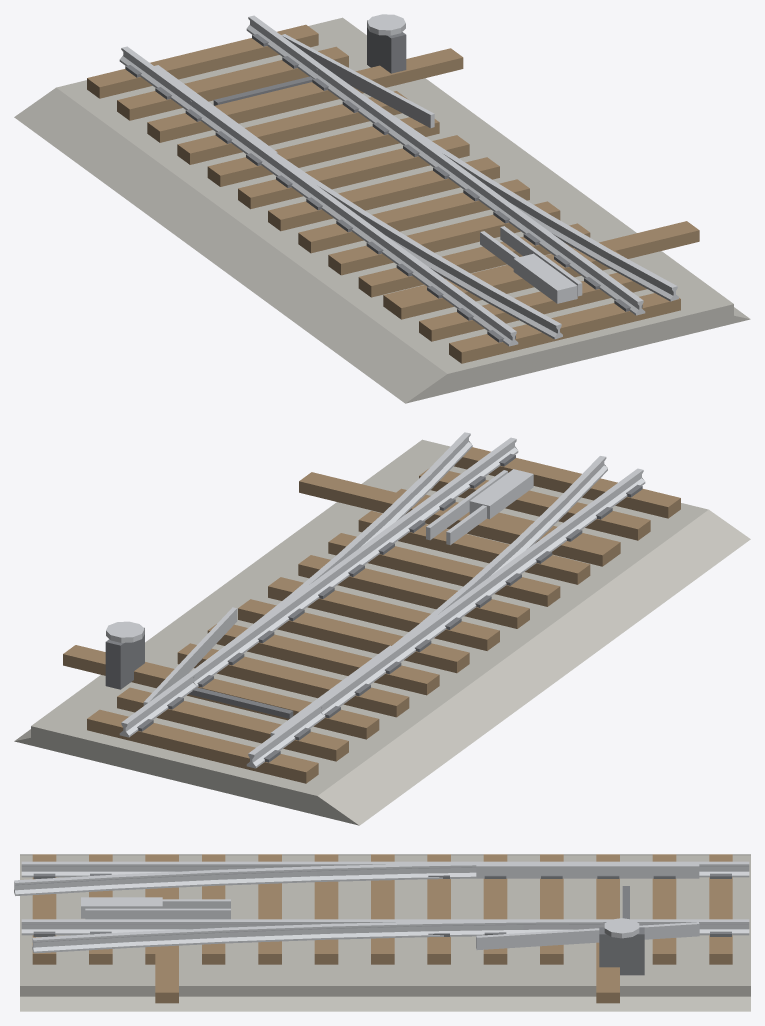
Rendered from steam-era-railway-and-rolling-stock-turnout-right-e67a582f.glb.
The picture shows the model from 3 angles, top to bottom: view 1: azimuth 30°, elevation 25°; view 2: azimuth 150°, elevation 25°; view 3: azimuth 270°, elevation 25°; orthographic projection. The views are drawn at different scales.
Visible parts, largest first — view 1: turnout-right; view 2: turnout-right; view 3: turnout-right.
Part boxes in pixels (x1,y1,x2,y2): turnout-right: (14,14,750,403); turnout-right: (14,432,750,825); turnout-right: (14,854,750,1011).
Bounding box in the file's own units: 4.35 × 0.8099 × 8.11.
